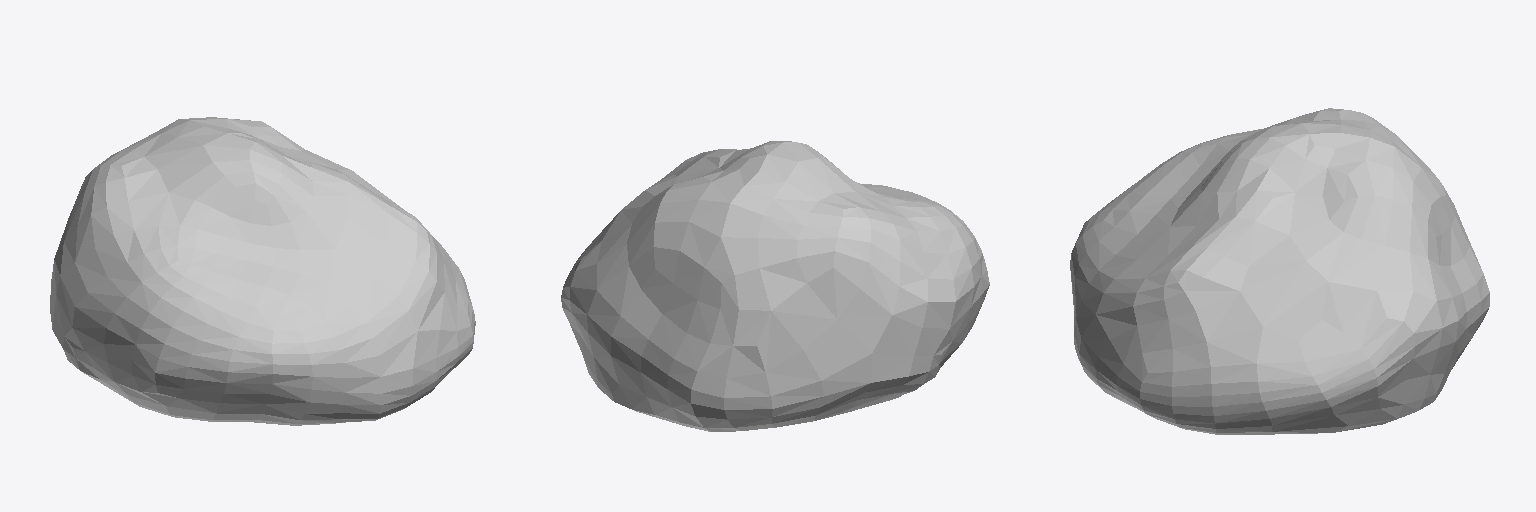
The model's file is Rock_2.obj.
3 renders of one model, left to right at view 1: azimuth 30°, elevation 25°; view 2: azimuth 150°, elevation 25°; view 3: azimuth 270°, elevation 25°, orthographic.
Visible parts, largest first — view 1: pSphere1; view 2: pSphere1; view 3: pSphere1.
Boxes of the visible parts, box(x1,y1,x2,y2) form: pSphere1: box(50, 117, 475, 425); pSphere1: box(561, 141, 989, 431); pSphere1: box(1070, 108, 1489, 434).
Size of the model in its own units: 64.6 by 38.62 by 63.67.